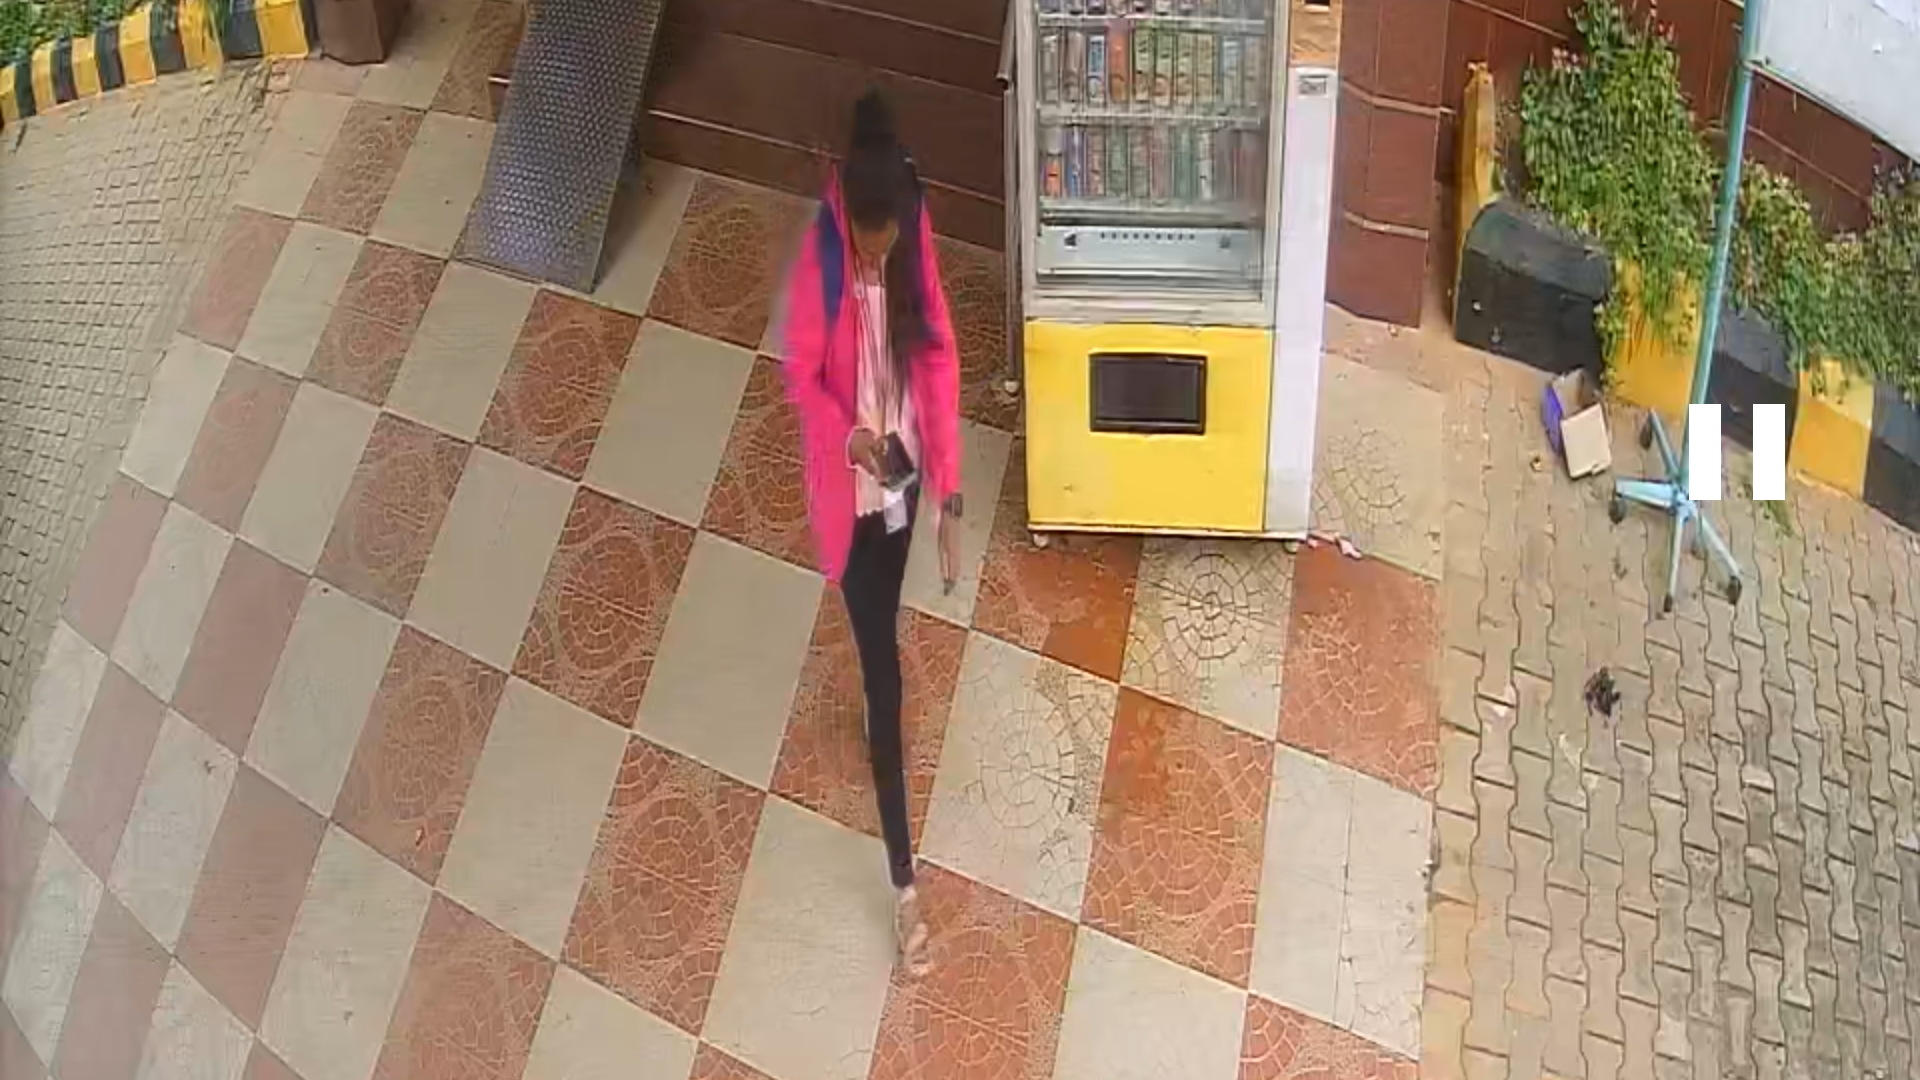not intruder: (777, 59, 977, 977)
